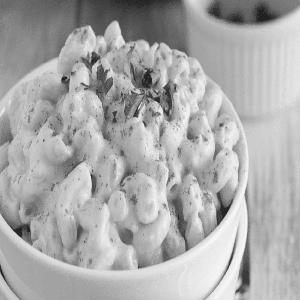pasta: (7, 16, 258, 282)
